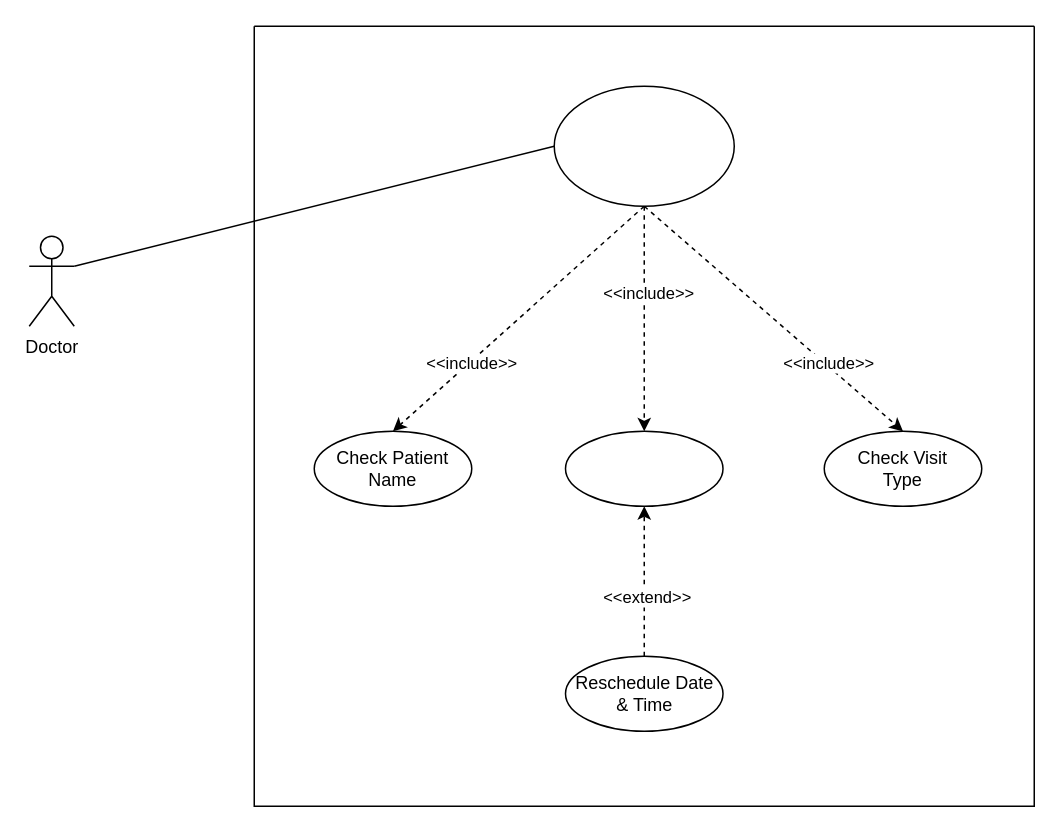
This 1061x833 diagram has some shape labels left out. The centre of each missing label's shape, as x and y in pixels:
"Check Appointments" goes at point 643,145.
"Check Date & Time" goes at point 643,468.
